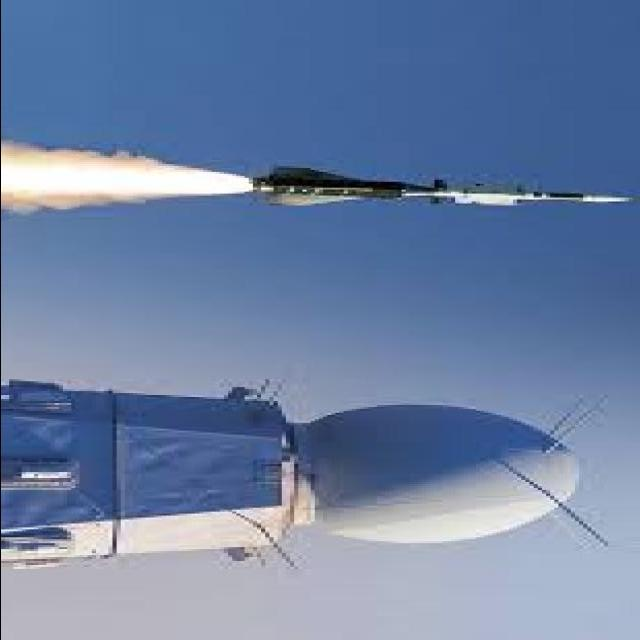Missile: (252, 162, 640, 215)
